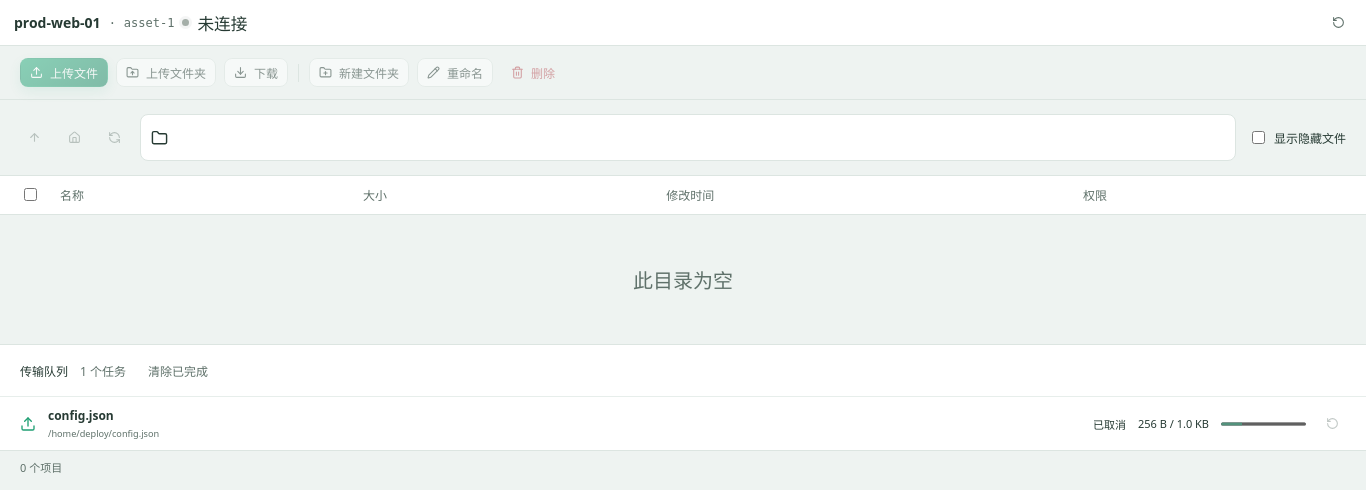
Test: 断开后仍接收该 Tab 的最终取消事件，并允许清理旧连接的已结束任务
The width and height of the screenshot is (1366, 490).
Check: the element "传输队列" is shown, box [0,344,1365,450]
Check: the text "已取消" is shown, box [1093,416,1126,432]
Click the button "清除已完成".
click(178, 370)  # box [138,356,218,385]
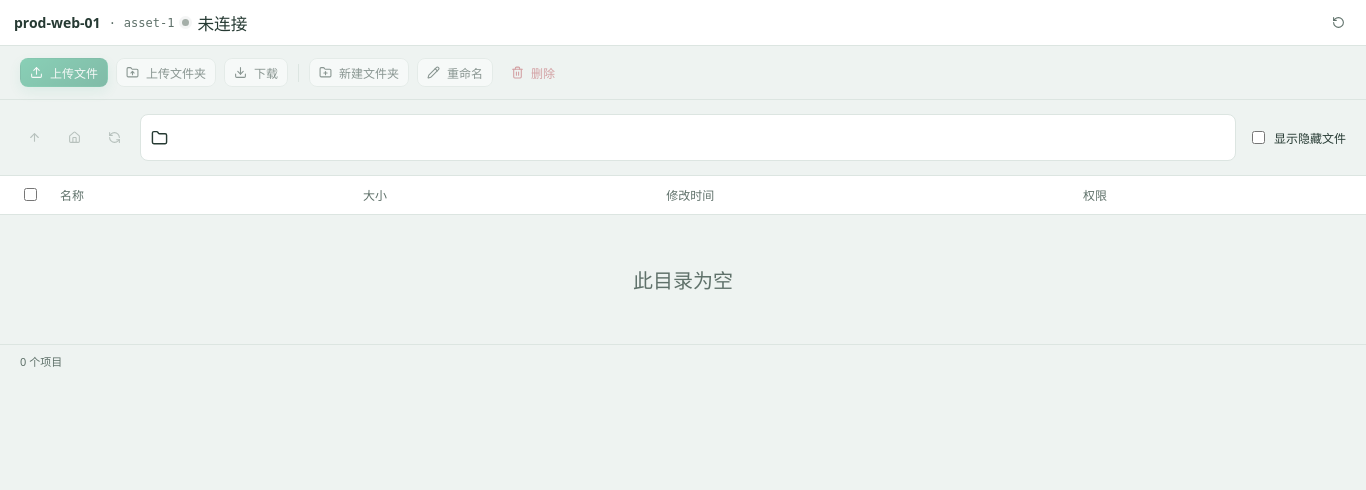
Check: the text "传输队列" is gone
